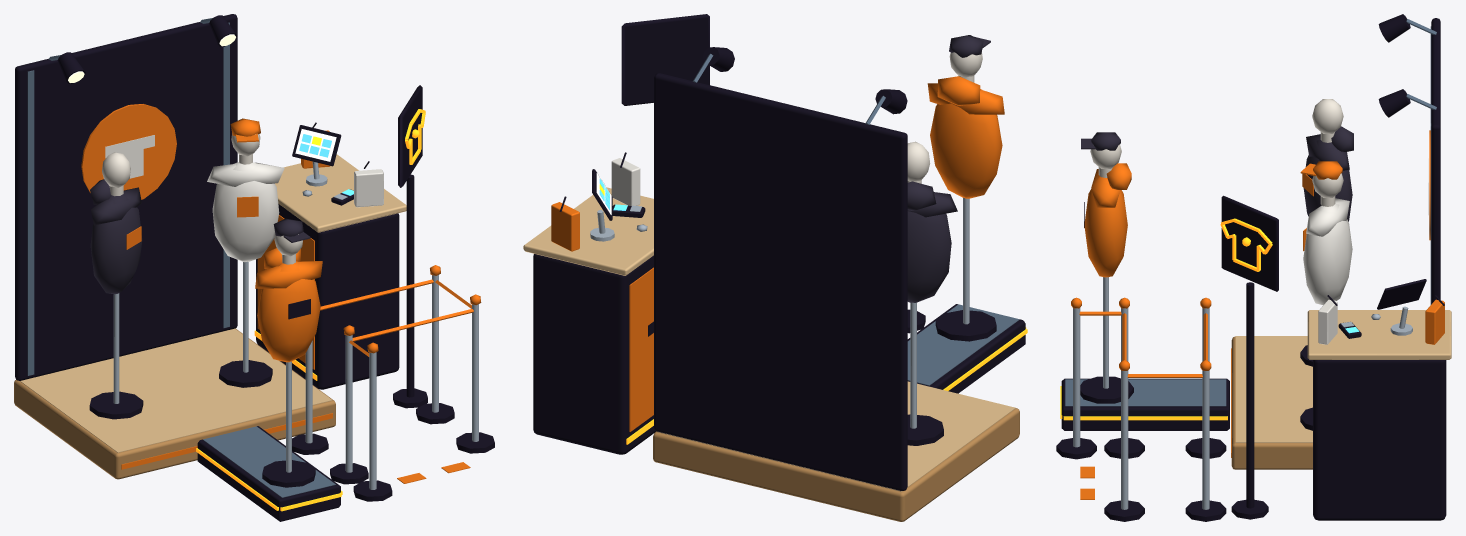
File: station_special_3.glb
3 renders of one model, left to right at view 1: azimuth 30°, elevation 25°; view 2: azimuth 150°, elevation 25°; view 3: azimuth 270°, elevation 25°, orthographic. The views are drawn at different scales.
Parts seen in each view (by area): view 1: station_special_3; view 2: station_special_3; view 3: station_special_3.
Boxes of the visible parts, <box> form: station_special_3: <box>14,14,494,521</box>; station_special_3: <box>523,14,1027,521</box>; station_special_3: <box>1056,14,1451,521</box>.
Bounding box in the file's own units: 2.09 × 2.17 × 2.14.
